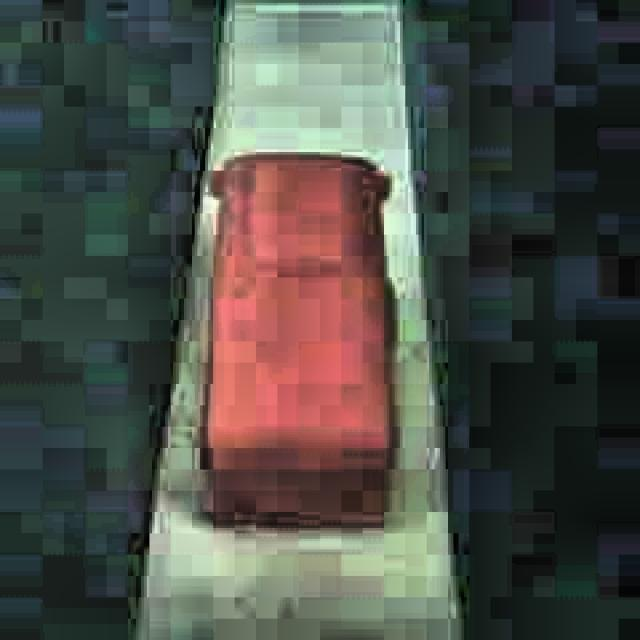bus: (199, 150, 399, 540)
